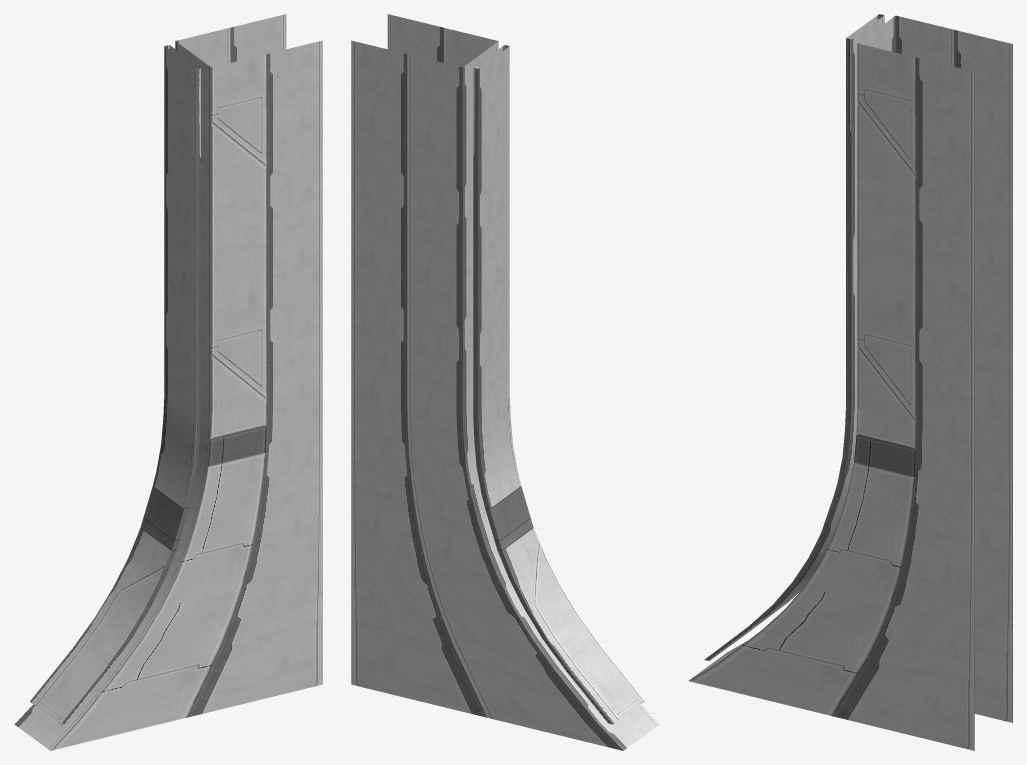
Rendered from PRS_CurvedSupportsingle.FBX.
3 views of the same model, side by side, from view 1: azimuth 30°, elevation 25°; view 2: azimuth 150°, elevation 25°; view 3: azimuth 330°, elevation 25° (orthographic). The views are drawn at different scales.
Visible parts, largest first — view 1: PRS_CurvedSupportsingle; view 2: PRS_CurvedSupportsingle; view 3: PRS_CurvedSupportsingle.
Part boxes in pixels (x1=…): PRS_CurvedSupportsingle: x1=14, y1=14, x2=322, y2=750; PRS_CurvedSupportsingle: x1=351, y1=14, x2=659, y2=750; PRS_CurvedSupportsingle: x1=688, y1=14, x2=1012, y2=750.
Size of the model in its own units: 104 by 236 by 24.
